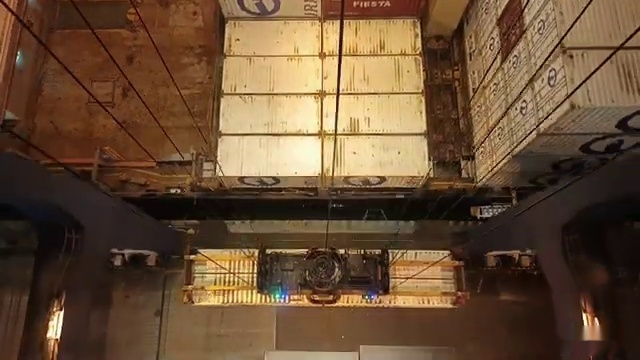container: (176, 245, 471, 311), (215, 135, 435, 188), (216, 15, 426, 57), (218, 93, 428, 134), (213, 56, 425, 95), (217, 0, 427, 23), (222, 0, 428, 21), (209, 0, 435, 17)
guide_mark: (111, 271, 544, 289), (67, 355, 561, 360)
spreader: (177, 240, 471, 311)
target_slot: (171, 233, 480, 316)
